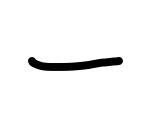minus: (28, 57, 123, 71)
